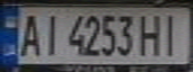2: (81, 11, 103, 57)
3: (115, 11, 139, 57)
4: (63, 10, 87, 56)
5: (100, 11, 121, 57)
A: (15, 10, 45, 57)
H: (136, 11, 166, 57)
I: (157, 10, 187, 56), (39, 10, 63, 57)
